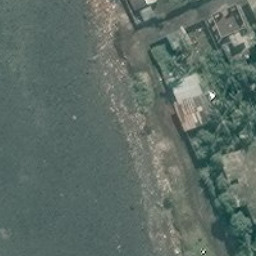buildings: (164, 72, 226, 130), (213, 4, 253, 58), (123, 1, 163, 24), (169, 23, 195, 53)
